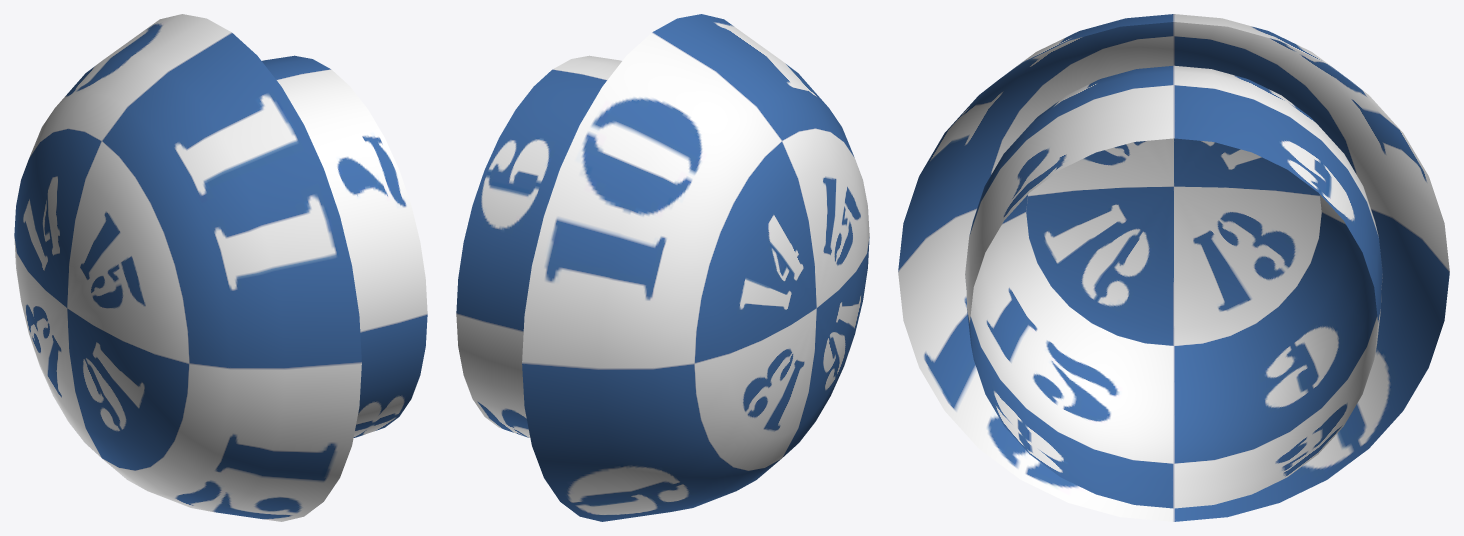
Rendered from Enmu_Wind3.fbx.
3 renders of one model, left to right at view 1: azimuth 30°, elevation 25°; view 2: azimuth 150°, elevation 25°; view 3: azimuth 270°, elevation 25°, orthographic. The views are drawn at different scales.
Visible parts, largest first — view 1: SM_e_Plc_P1011_Wind004; view 2: SM_e_Plc_P1011_Wind004; view 3: SM_e_Plc_P1011_Wind004.
Boxes of the visible parts, x1,y1,x2,y2 form: SM_e_Plc_P1011_Wind004: (14, 14, 427, 521); SM_e_Plc_P1011_Wind004: (456, 14, 869, 521); SM_e_Plc_P1011_Wind004: (898, 14, 1449, 521).
Bounding box in the file's own units: 124 × 212 × 212.
